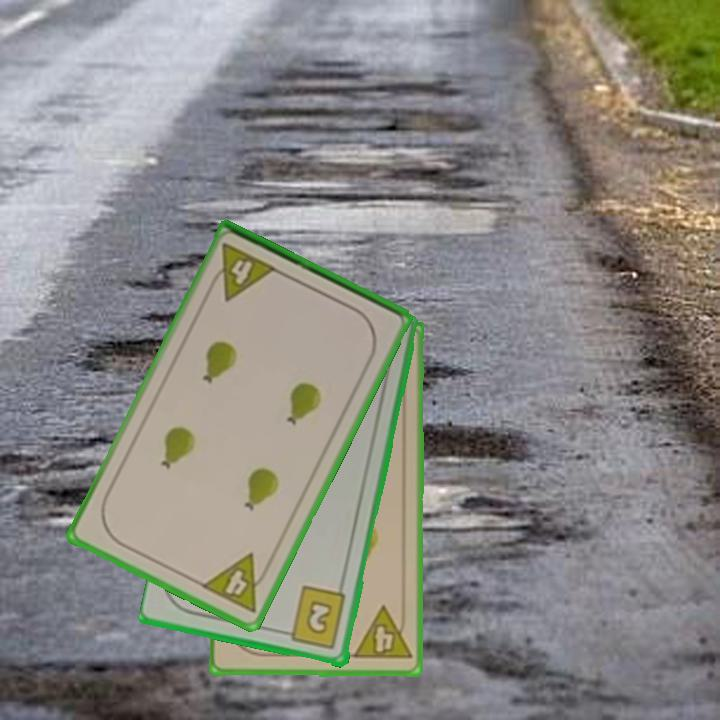2b: (279, 583, 349, 652)
4p: (197, 549, 275, 617), (204, 240, 280, 304), (349, 603, 414, 663)
